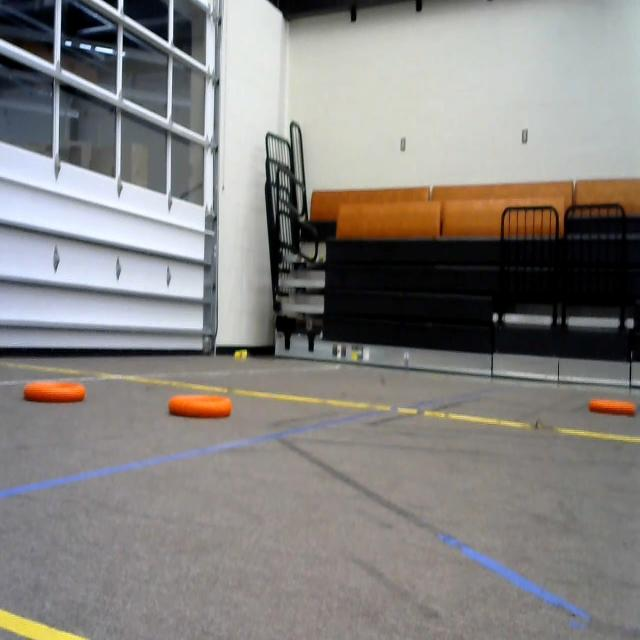note: (7, 374, 91, 413), (161, 392, 250, 427), (589, 385, 640, 421)
